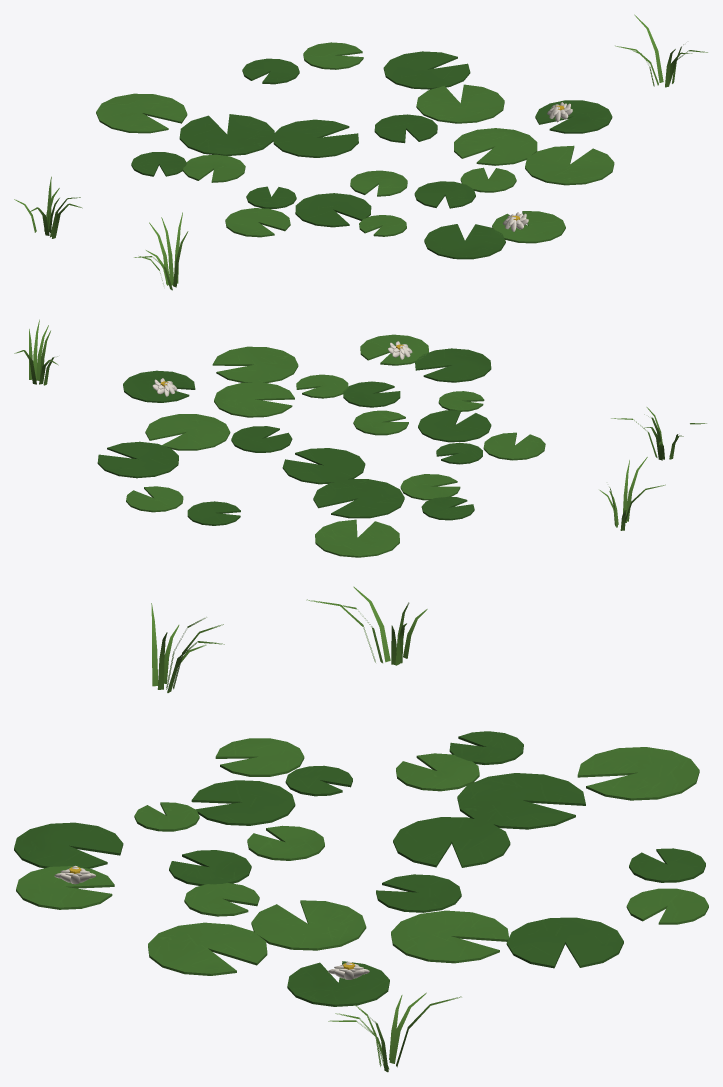
The model's file is lily_pad_cluster.glb.
3 renders of one model, top to bottom at view 1: azimuth 30°, elevation 25°; view 2: azimuth 150°, elevation 25°; view 3: azimuth 270°, elevation 25°, orthographic. The views are drawn at different scales.
Parts seen in each view (by area): view 1: lily_pad_cluster; view 2: lily_pad_cluster; view 3: lily_pad_cluster.
Part boxes in pixels (bbox=[...]): lily_pad_cluster: bbox=[14, 14, 707, 290]; lily_pad_cluster: bbox=[14, 319, 706, 557]; lily_pad_cluster: bbox=[14, 586, 708, 1072].
Bounding box in the file's own units: 5.11 × 0.4114 × 3.42.
Materials: 5 (5 with a texture image).
